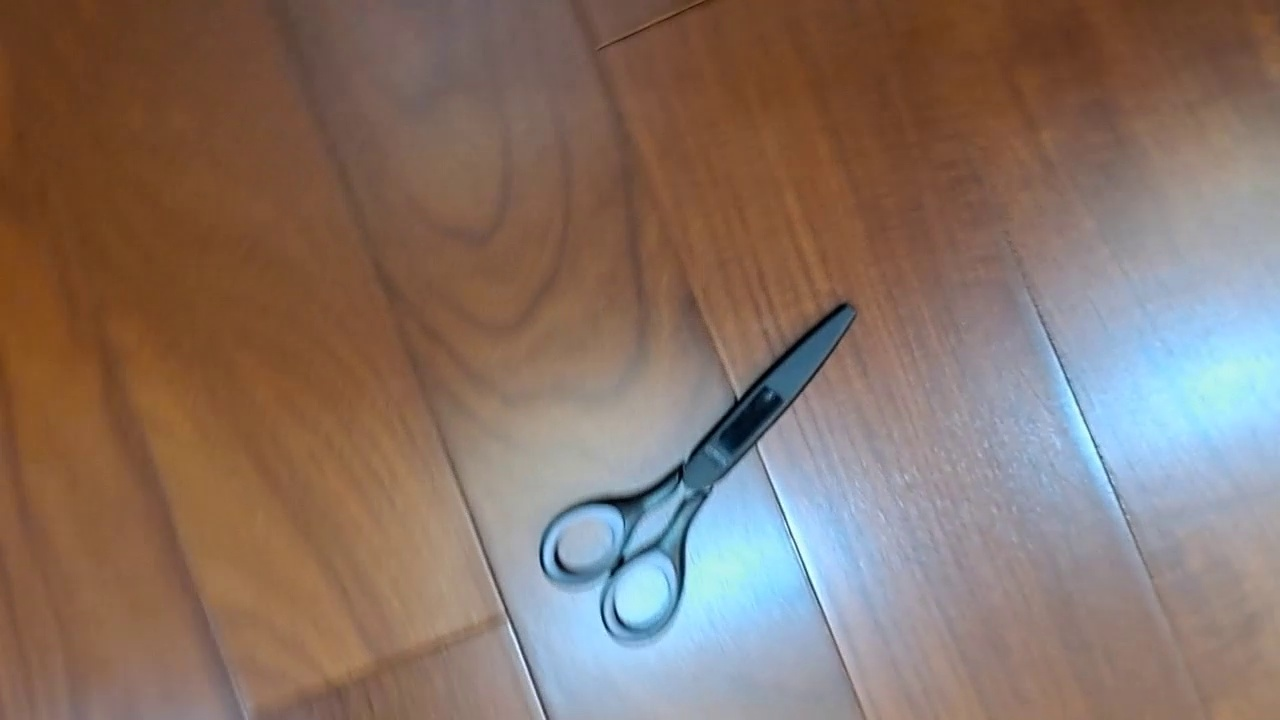scissors: (537, 300, 858, 648)
